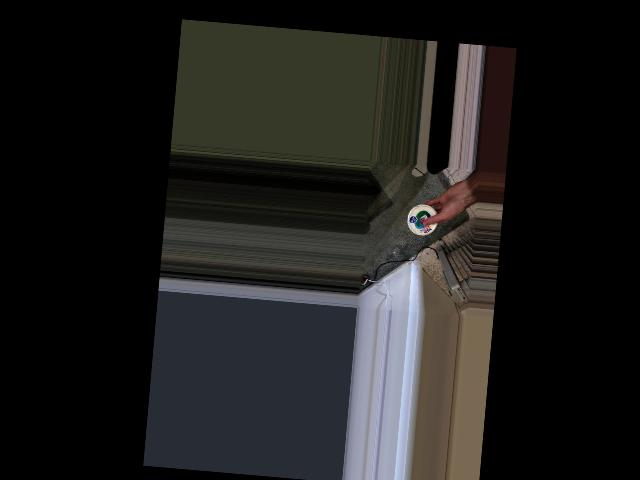cotage: (408, 203, 439, 235)
